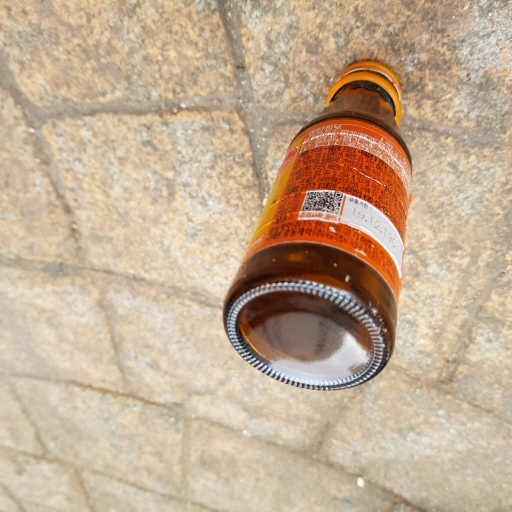Glass_3: (218, 61, 416, 389)
